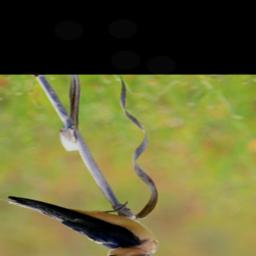Swallow: (0, 192, 159, 256)
